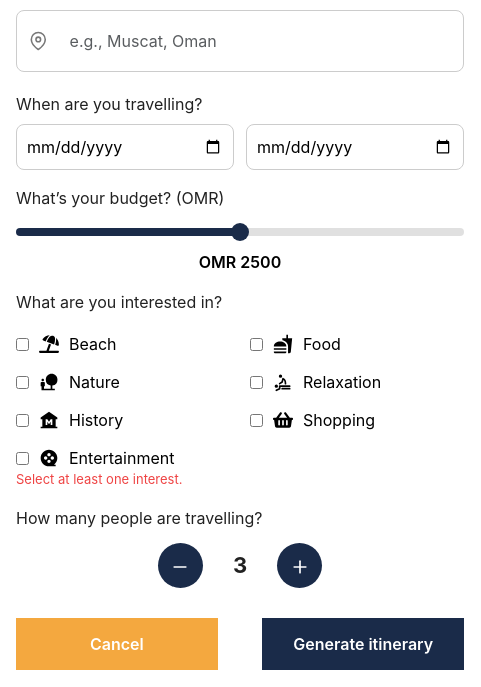
Scenario: TripForm Component Tests › increments and decrements travelers count
(page scrolled)
Expected: the text "3" is shown, [233,549,247,582]
Click the 2nd button: (300, 565) [277,543,322,588]
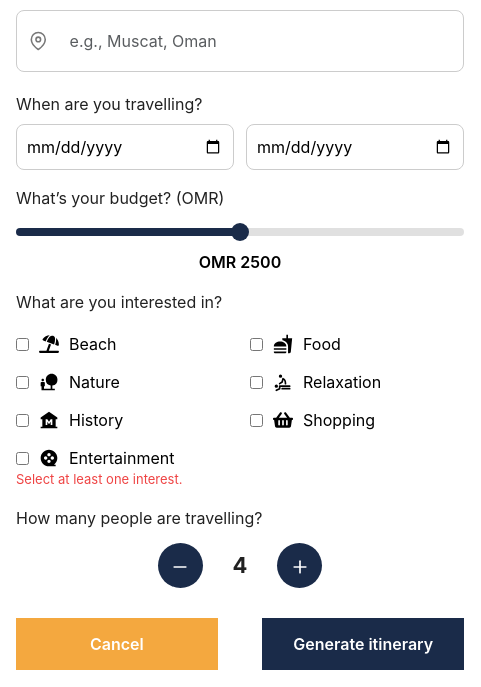
Now the text "4" is shown, box [232,549,247,582]
Click the 1st button: (180, 565) [158,543,202,588]
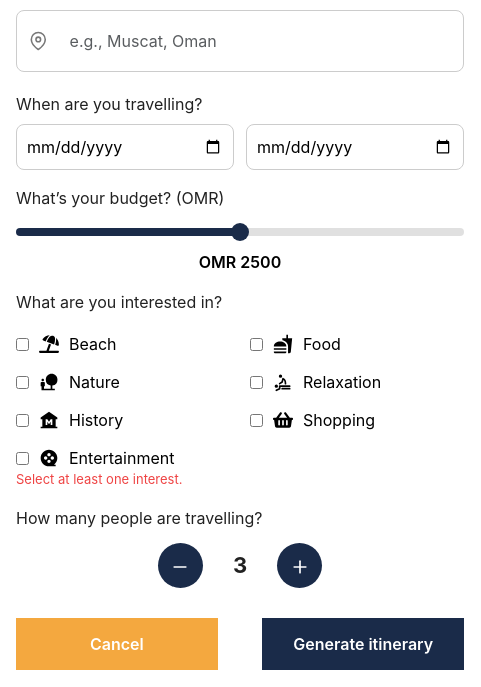
Now the text "3" is shown, box [233,549,247,582]
